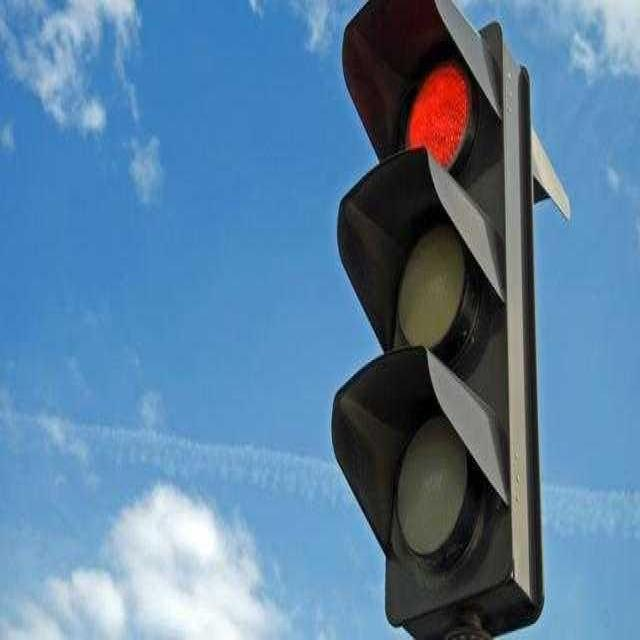Traffic Light -Red-: (337, 0, 551, 640)
